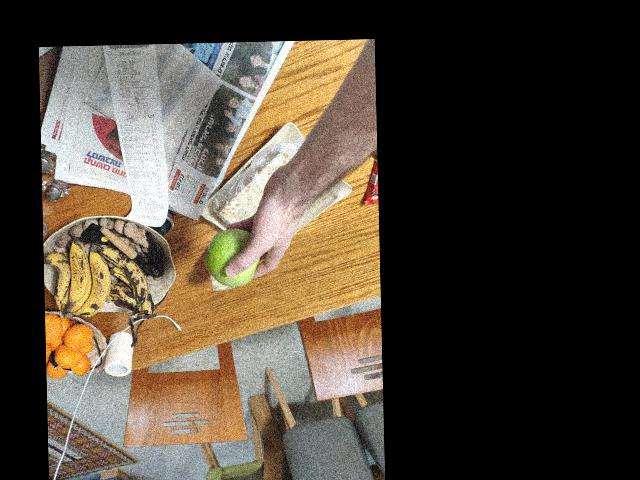apple: (205, 226, 261, 289)
